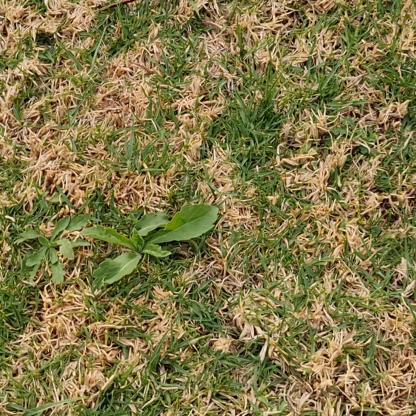Weeds: (81, 205, 219, 290), (16, 213, 90, 290)
